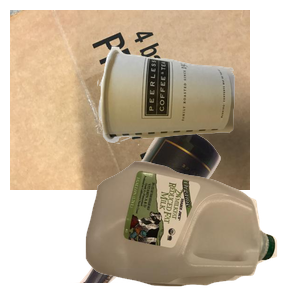cardboard: (10, 10, 250, 190)
glass: (66, 120, 279, 300)
plastic: (83, 159, 300, 300)
trash: (95, 44, 300, 180)
